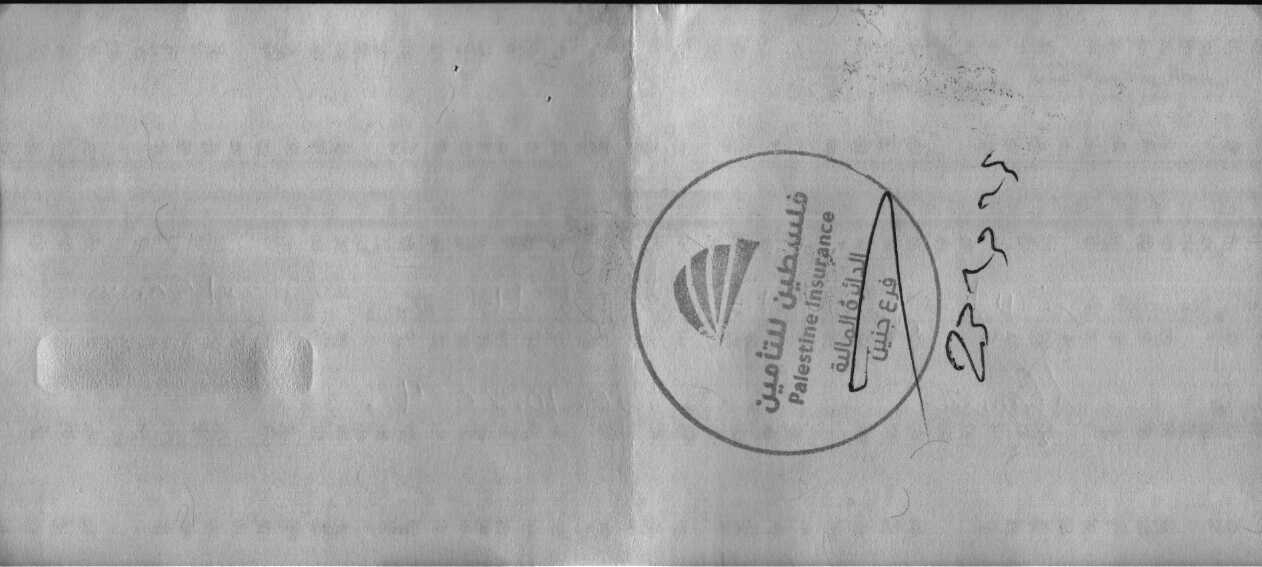stamp: (629, 148, 944, 460)
